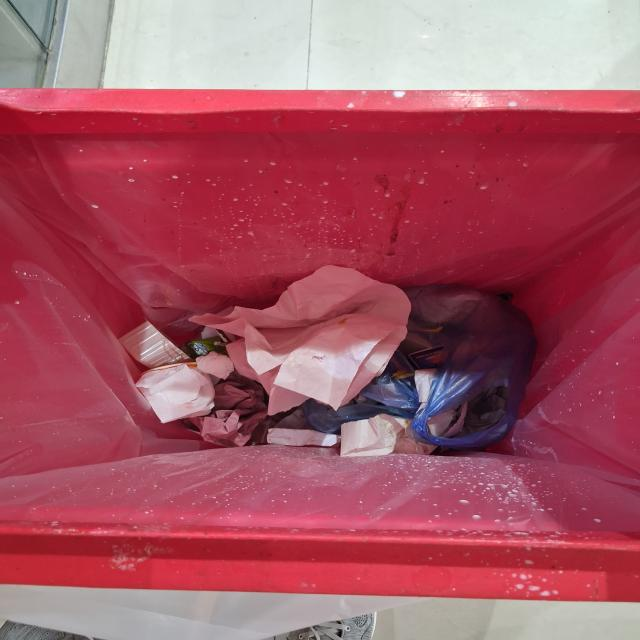paper: (188, 266, 410, 416)
